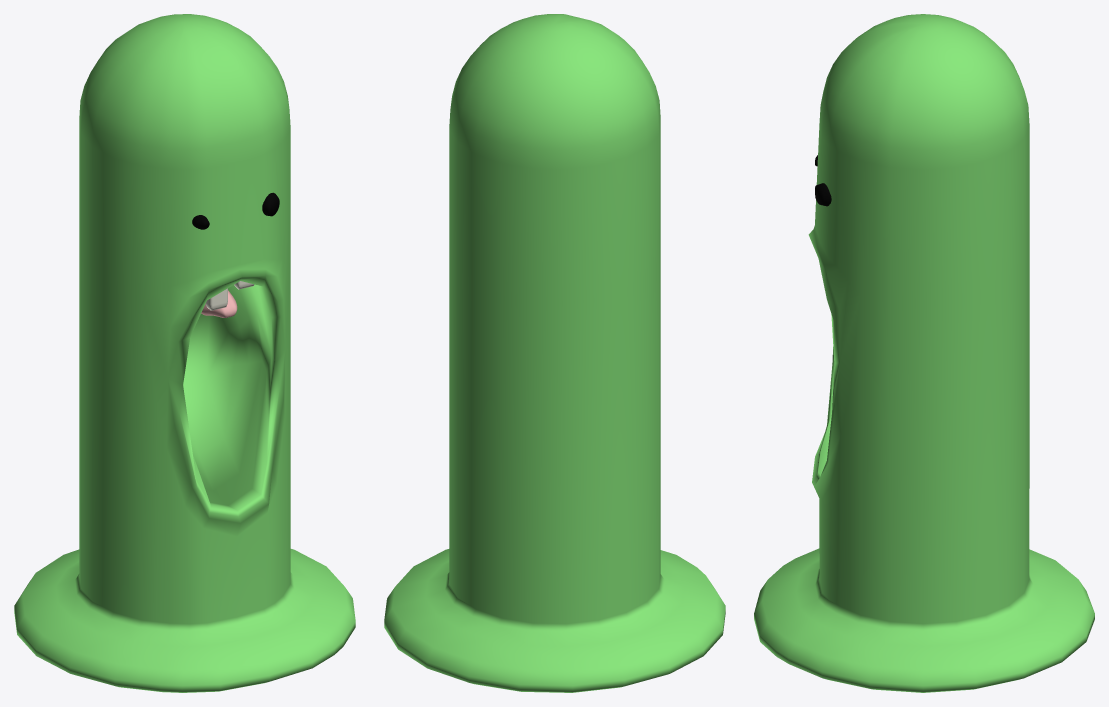
The model's file is Larry1.fbx.
The picture shows the model from 3 angles, left to right: view 1: azimuth 30°, elevation 25°; view 2: azimuth 150°, elevation 25°; view 3: azimuth 270°, elevation 25°; orthographic projection.
Parts seen in each view (by area): view 1: Neutral, Eyes; view 2: Neutral; view 3: Neutral.
Boxes of the visible parts, <box> form: Neutral: <box>14,14,355,692</box>; Eyes: <box>192,192,279,229</box>; Neutral: <box>384,14,725,692</box>; Neutral: <box>754,14,1094,692</box>.
Size of the model in its own units: 3.23 by 6.24 by 3.21.
